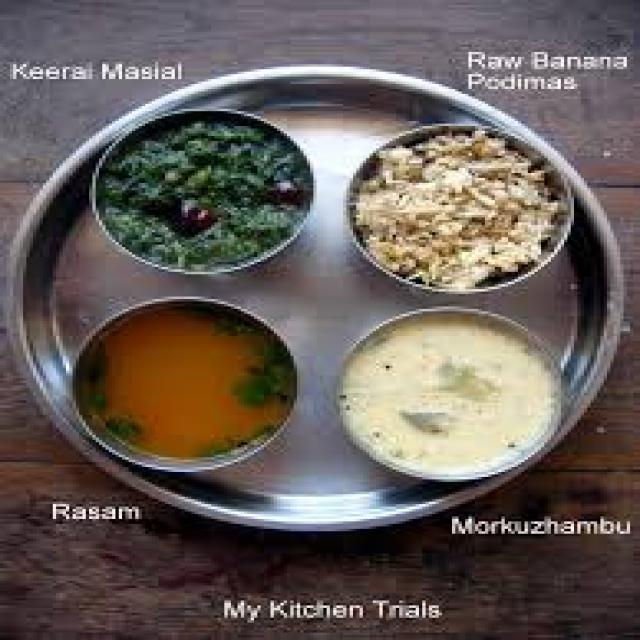dal: (69, 303, 305, 461), (334, 318, 569, 475)
rice: (347, 128, 561, 288)
